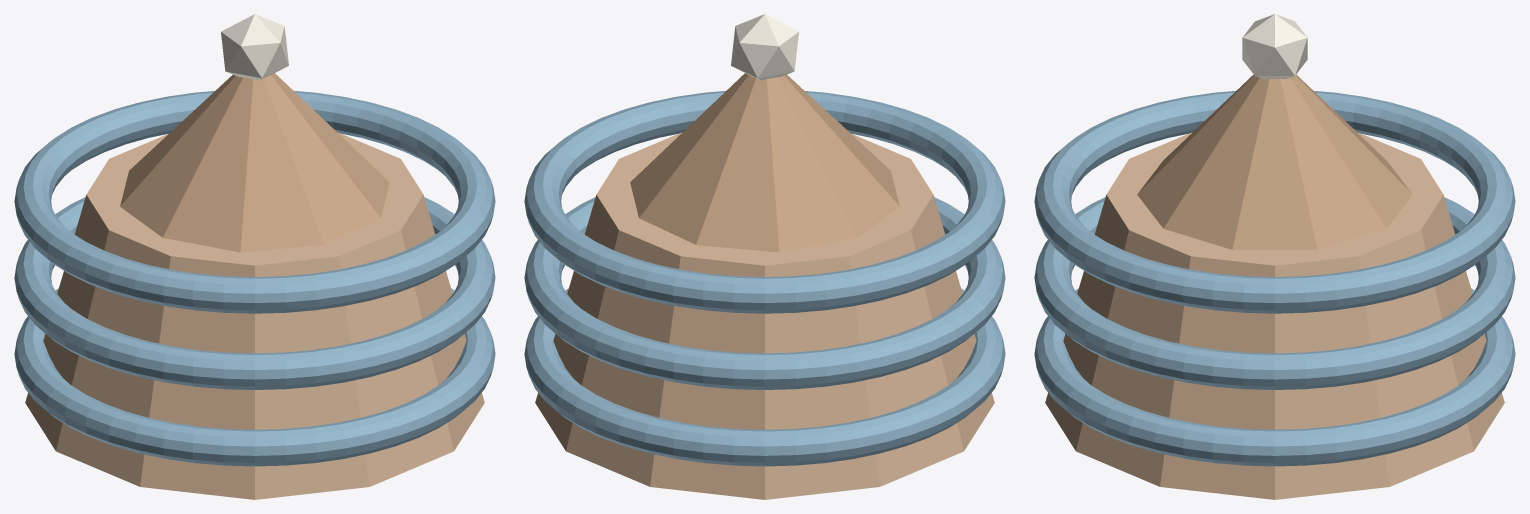
The model's file is 18-Casas_decor_vasija_ritual.glb.
3 views of the same model, side by side, from view 1: azimuth 30°, elevation 25°; view 2: azimuth 150°, elevation 25°; view 3: azimuth 270°, elevation 25° (orthographic).
Parts seen in each view (by area): view 1: SM_Vasija_Cuerpo, SM_Vasija_Glifo.002, SM_Vasija_Tapa, SM_Vasija_Glifo.001, SM_Vasija_Glifo, SM_Vasija_Pomo; view 2: SM_Vasija_Cuerpo, SM_Vasija_Glifo.002, SM_Vasija_Tapa, SM_Vasija_Glifo.001, SM_Vasija_Glifo, SM_Vasija_Pomo; view 3: SM_Vasija_Cuerpo, SM_Vasija_Glifo.002, SM_Vasija_Tapa, SM_Vasija_Glifo.001, SM_Vasija_Glifo, SM_Vasija_Pomo.
Part boxes in pixels (left/top/right/bottom): SM_Vasija_Cuerpo: left=25, top=132, right=484, bottom=499; SM_Vasija_Glifo.002: left=14, top=91, right=495, bottom=313; SM_Vasija_Tapa: left=120, top=73, right=389, bottom=252; SM_Vasija_Glifo.001: left=14, top=197, right=495, bottom=389; SM_Vasija_Glifo: left=14, top=288, right=495, bottom=466; SM_Vasija_Pomo: left=221, top=14, right=288, bottom=80; SM_Vasija_Cuerpo: left=535, top=132, right=994, bottom=499; SM_Vasija_Glifo.002: left=524, top=91, right=1005, bottom=313; SM_Vasija_Tapa: left=630, top=73, right=899, bottom=252; SM_Vasija_Glifo.001: left=524, top=197, right=1005, bottom=389; SM_Vasija_Glifo: left=524, top=288, right=1005, bottom=466; SM_Vasija_Pomo: left=731, top=14, right=798, bottom=80; SM_Vasija_Cuerpo: left=1045, top=132, right=1504, bottom=499; SM_Vasija_Glifo.002: left=1034, top=91, right=1515, bottom=313; SM_Vasija_Tapa: left=1137, top=74, right=1412, bottom=249; SM_Vasija_Glifo.001: left=1034, top=197, right=1515, bottom=389; SM_Vasija_Glifo: left=1034, top=288, right=1515, bottom=466; SM_Vasija_Pomo: left=1242, top=14, right=1307, bottom=79.
Size of the model in its own units: 0.314 by 0.28 by 0.314.
